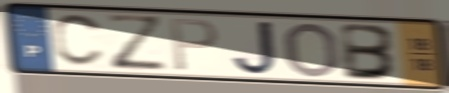B: (340, 21, 400, 82)
C: (51, 12, 106, 69)
J: (230, 18, 280, 77)
O: (283, 20, 342, 80)
P: (168, 17, 221, 73)
Z: (103, 12, 171, 72)
